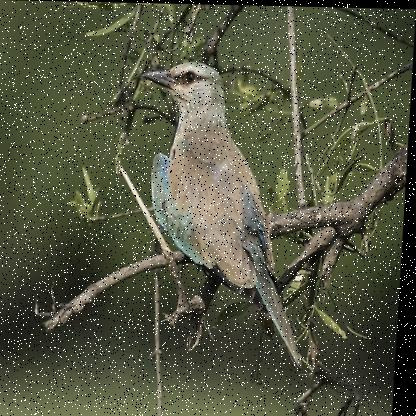Burung: (127, 60, 320, 367)
